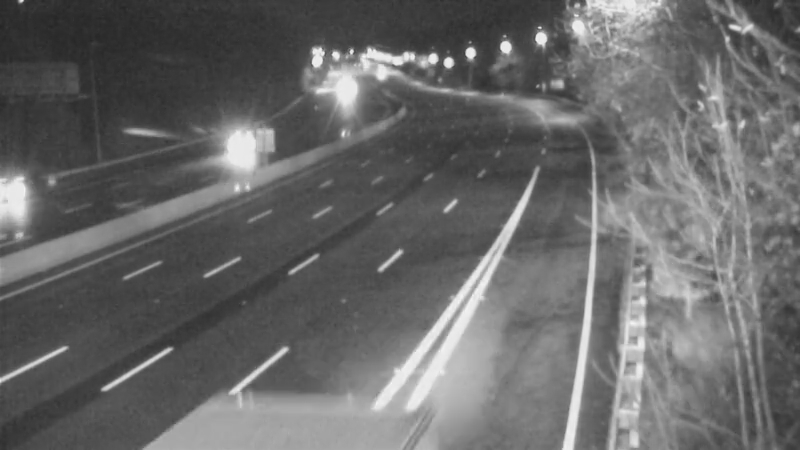vehicle: (1, 144, 71, 224), (210, 121, 260, 171), (319, 63, 369, 113)
